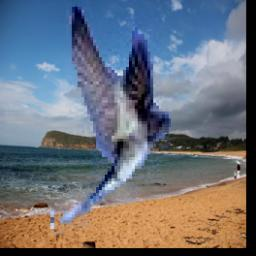Swallow: (50, 1, 171, 239)
